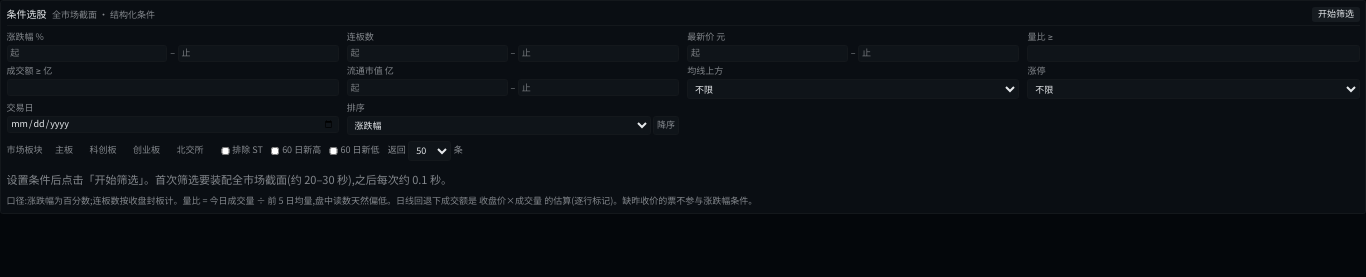
Test: AshareScreenPanel › renders matched rows with percent-unit change and an estimated-turnover mark
This screenshot has width=1366, height=277.
Click the button with test id "screen-run" at (1336,14), box [1312,6,1360,22]
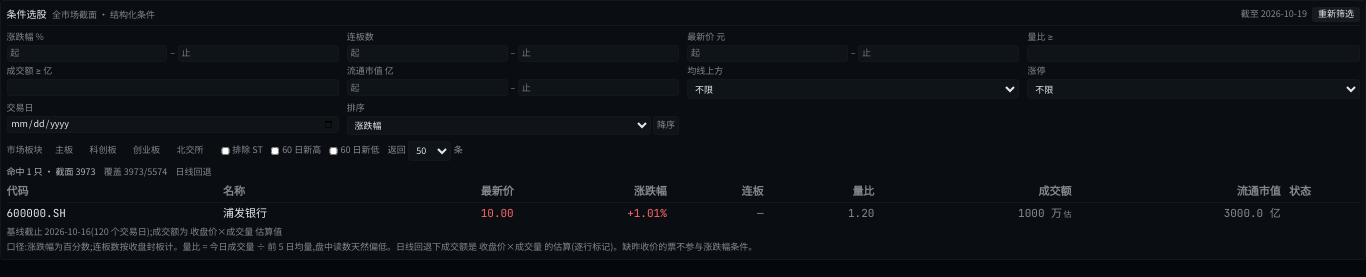
Expected: the button with test id "screen-run" reads "重新筛选", [1312,6,1360,22]
Expected: the element with test id "screen-summary" shows "命中 1 只 · 截面 3973", [6,165,96,178]
Expected: the text "+1.01%" is shown, [522,203,675,224]
